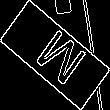M_SW: (24, 21, 86, 89)
